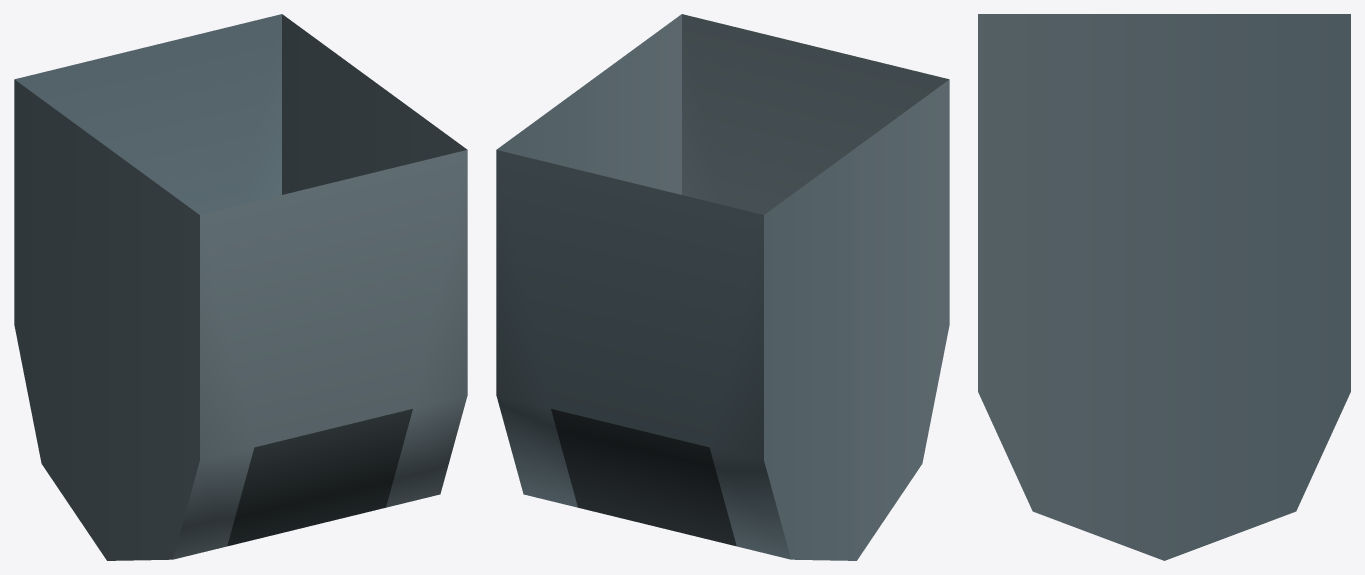
File: Support_005.fbx
3 renders of one model, left to right at view 1: azimuth 30°, elevation 25°; view 2: azimuth 150°, elevation 25°; view 3: azimuth 270°, elevation 25°, orthographic.
Parts seen in each view (by area): view 1: Support_005; view 2: Support_005; view 3: Support_005.
Part boxes in pixels (left/top/right/bottom): Support_005: left=14, top=14, right=467, bottom=560; Support_005: left=496, top=14, right=949, bottom=560; Support_005: left=978, top=14, right=1350, bottom=560.
Size of the model in its own units: 6.94 by 8.33 by 10.26.
